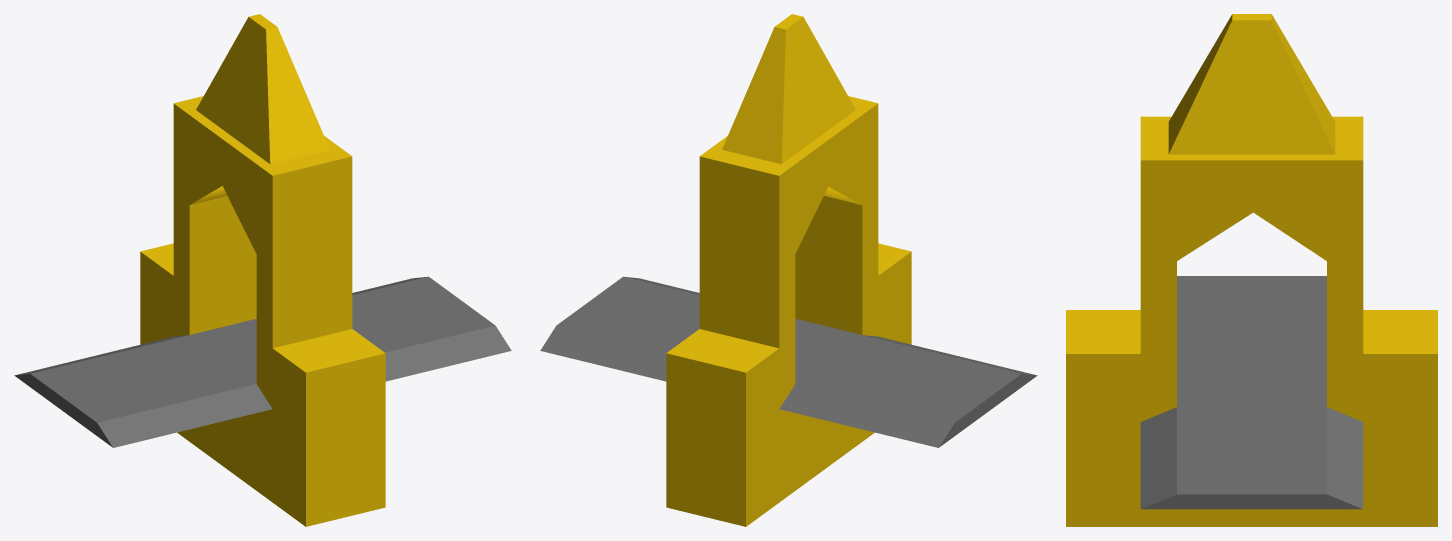
The model's file is Bidges3.fbx.
3 renders of one model, left to right at view 1: azimuth 30°, elevation 25°; view 2: azimuth 150°, elevation 25°; view 3: azimuth 270°, elevation 25°, orthographic. The views are drawn at different scales.
Parts seen in each view (by area): view 1: Bridges3; view 2: Bridges3; view 3: Bridges3.
Boxes of the visible parts, x1,y1,x2,y2 form: Bridges3: (14,14,511,526); Bridges3: (540,14,1037,526); Bridges3: (1066,14,1437,526).
Size of the model in its own units: 398 by 415 by 287.
